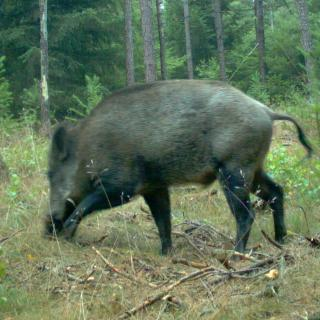Pig: (31, 45, 312, 288)
